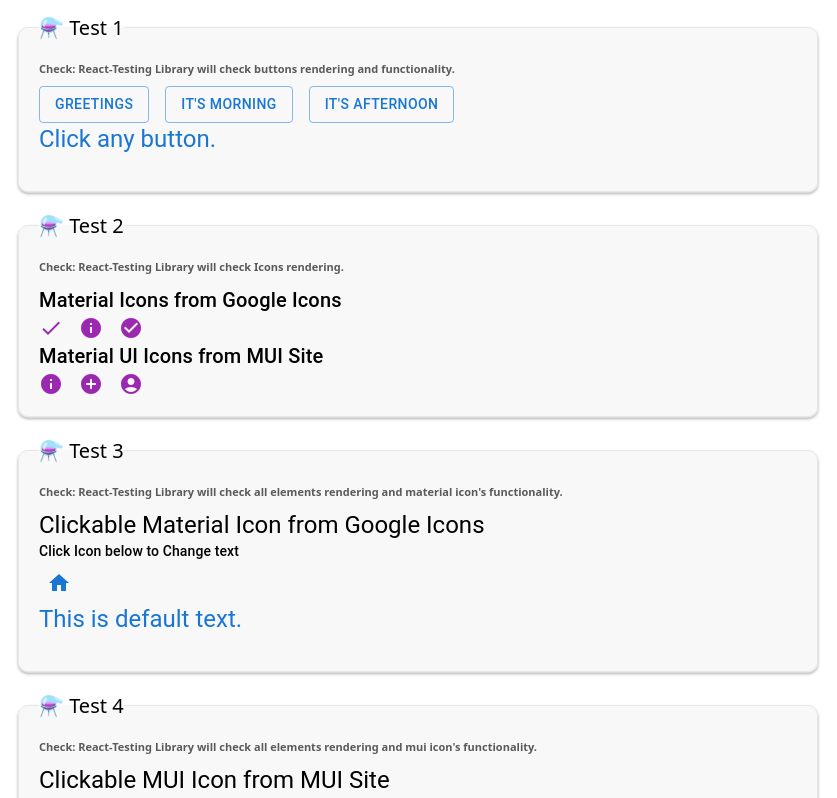
Scenario: MaterialUIForm Component › should render Material Icon with proper functionality on clicking button.
The image size is (837, 798).
Expected: the heading with test id "mat-icon-button-text" reads "This is default text.", [39,604,242,632]
Click the button with test id "mat-icon-button" at (59, 582), box [39,562,79,602]
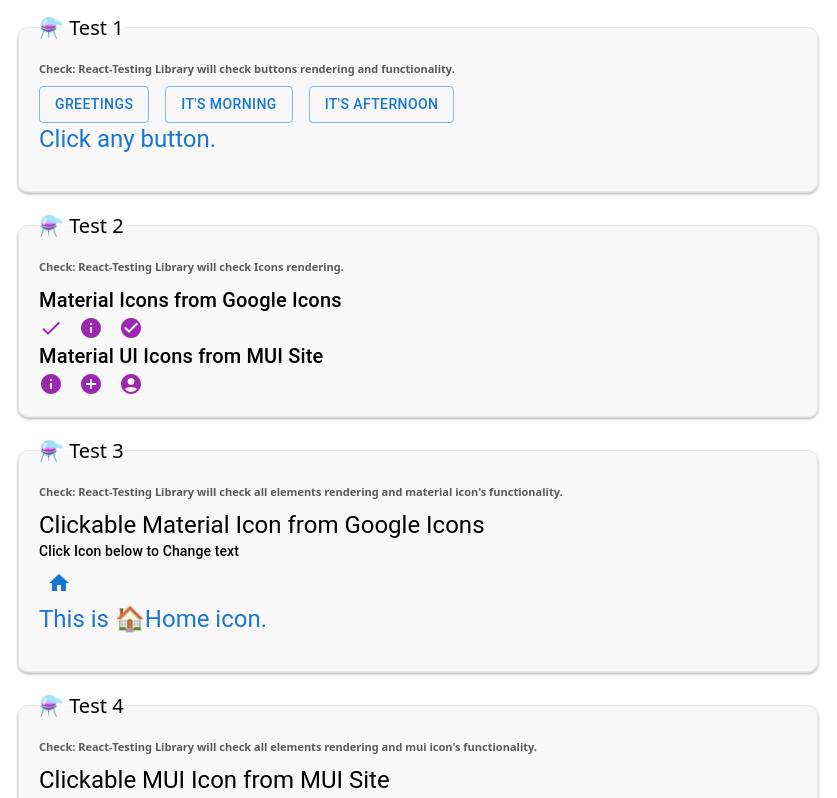
Result: the heading with test id "mat-icon-button-text" reads "This is 🏠Home icon." at [39,604,267,632]
